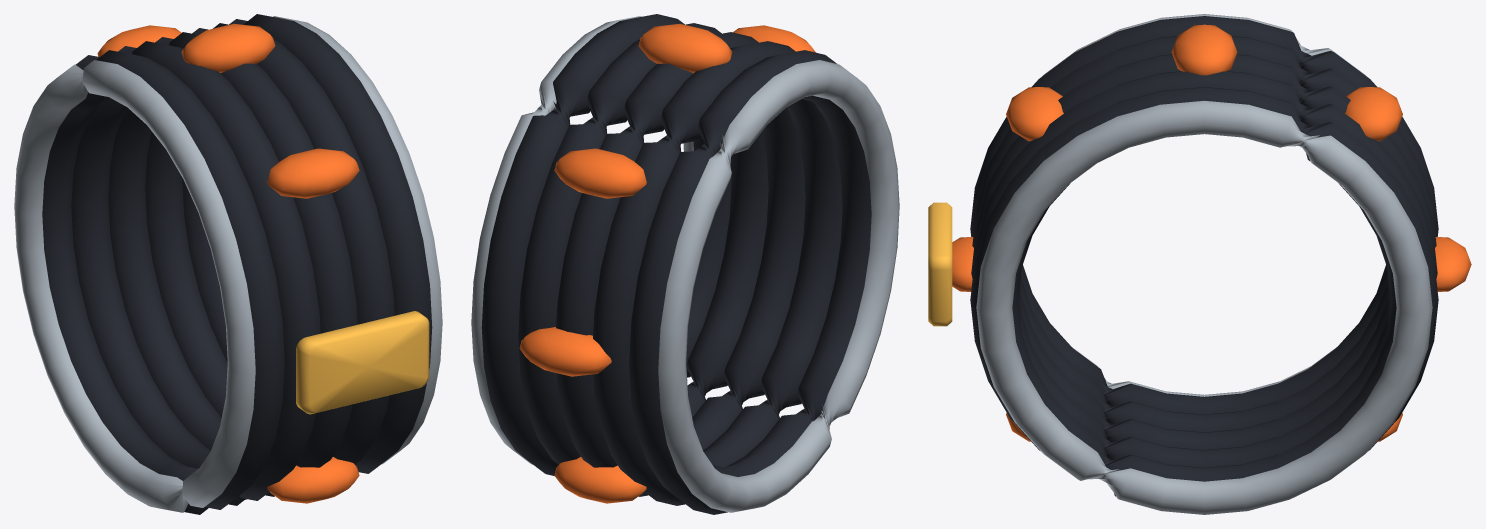
File: sol_cuff.glb
The picture shows the model from 3 angles, left to right: view 1: azimuth 30°, elevation 25°; view 2: azimuth 150°, elevation 25°; view 3: azimuth 270°, elevation 25°; orthographic projection.
Visible parts, largest first — view 1: sol_cuff_dark, sol_cuff_metal, sol_cuff_accent, sol_cuff_gem; view 2: sol_cuff_dark, sol_cuff_metal, sol_cuff_accent; view 3: sol_cuff_dark, sol_cuff_metal, sol_cuff_accent, sol_cuff_gem.
Boxes of the visible parts, x1,y1,x2,y2 form: sol_cuff_dark: (42, 14, 432, 514); sol_cuff_metal: (14, 16, 442, 512); sol_cuff_accent: (97, 23, 359, 503); sol_cuff_gem: (296, 311, 429, 414); sol_cuff_dark: (481, 14, 871, 514); sol_cuff_metal: (471, 16, 899, 512); sol_cuff_accent: (519, 23, 815, 503); sol_cuff_dark: (970, 16, 1438, 496); sol_cuff_metal: (976, 14, 1432, 514); sol_cuff_accent: (952, 24, 1471, 441); sol_cuff_gem: (928, 202, 952, 326).
Size of the model in its own units: 0.04 by 0.085 by 0.0905.
